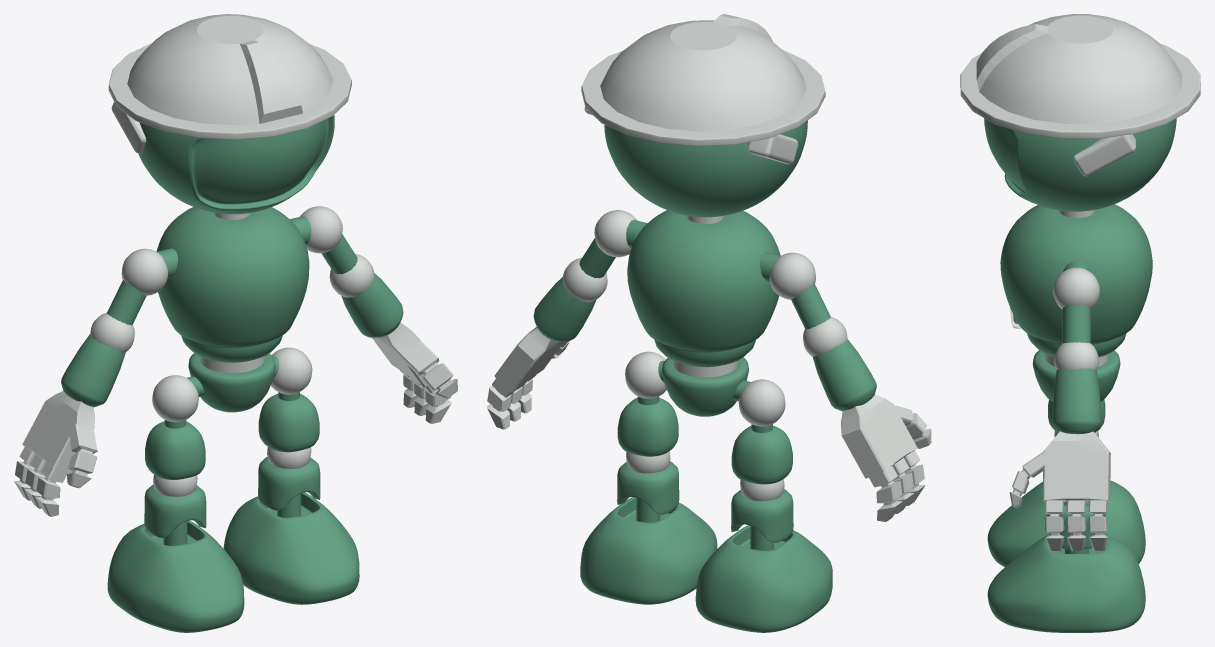
Rendered from Lamberttest_green.fbx.
3 renders of one model, left to right at view 1: azimuth 30°, elevation 25°; view 2: azimuth 150°, elevation 25°; view 3: azimuth 270°, elevation 25°, orthographic.
Visible parts, largest first — view 1: hat_GEO_01, torso_GEO_01, head_GEO_02, shoe_GEO_02, shoe_GEO_03, hand_GEO_02, hand_GEO_01, pelvis_GEO_01, forearm_GEO_02, thigh_GEO_01, thigh_GEO_02, forearm_GEO_01 (+13 smaller); view 2: hat_GEO_01, torso_GEO_01, head_GEO_02, shoe_GEO_02, shoe_GEO_03, hand_GEO_02, hand_GEO_01, pelvis_GEO_01, forearm_GEO_02, thigh_GEO_02, thigh_GEO_01, forearm_GEO_01 (+13 smaller); view 3: hat_GEO_01, torso_GEO_01, shoe_GEO_03, head_GEO_02, hand_GEO_01, shoe_GEO_02, forearm_GEO_01, shoulder_GEO_01, ear_GEO_01, pelvis_GEO_01, elbow_GEO_01, bicep_GEO_01 (+1 smaller).
Boxes of the visible parts, x1,y1,x2,y2 form: hat_GEO_01: [108, 14, 351, 139]; torso_GEO_01: [156, 207, 309, 372]; head_GEO_02: [138, 115, 334, 214]; shoe_GEO_02: [107, 520, 244, 632]; shoe_GEO_03: [223, 492, 359, 604]; hand_GEO_02: [14, 391, 97, 516]; hand_GEO_01: [372, 322, 457, 423]; pelvis_GEO_01: [188, 353, 275, 412]; forearm_GEO_02: [61, 334, 125, 407]; thigh_GEO_01: [258, 393, 319, 452]; thigh_GEO_02: [145, 421, 205, 479]; forearm_GEO_01: [341, 273, 403, 337]; hat_GEO_01: [581, 14, 825, 146]; torso_GEO_01: [627, 210, 780, 377]; head_GEO_02: [604, 120, 807, 217]; shoe_GEO_02: [695, 525, 832, 632]; shoe_GEO_03: [580, 497, 717, 604]; hand_GEO_02: [841, 394, 931, 521]; hand_GEO_01: [486, 326, 569, 429]; pelvis_GEO_01: [662, 357, 748, 416]; forearm_GEO_02: [813, 339, 876, 411]; thigh_GEO_02: [731, 425, 792, 484]; thigh_GEO_01: [617, 397, 678, 456]; forearm_GEO_01: [533, 277, 596, 341]; hat_GEO_01: [960, 14, 1200, 138]; torso_GEO_01: [1000, 204, 1152, 366]; shoe_GEO_03: [987, 533, 1145, 632]; head_GEO_02: [984, 118, 1176, 211]; hand_GEO_01: [1009, 431, 1110, 551]; shoe_GEO_02: [987, 480, 1145, 566]; forearm_GEO_01: [1051, 368, 1101, 434]; shoulder_GEO_01: [1053, 267, 1099, 308]; ear_GEO_01: [1073, 134, 1135, 176]; pelvis_GEO_01: [1032, 350, 1120, 401]; elbow_GEO_01: [1054, 342, 1098, 370]; bicep_GEO_01: [1062, 305, 1090, 343].
Bounding box in the file's own units: 89.76 × 117 × 45.76.
